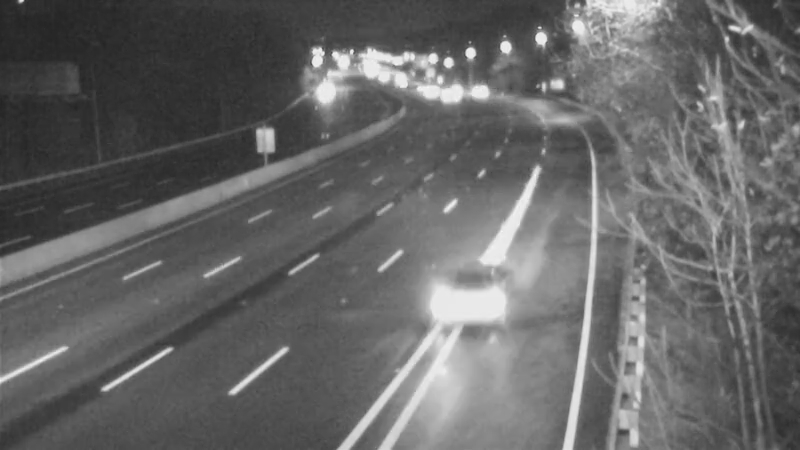vehicle: (420, 250, 530, 360), (451, 65, 501, 115), (420, 71, 470, 121)
